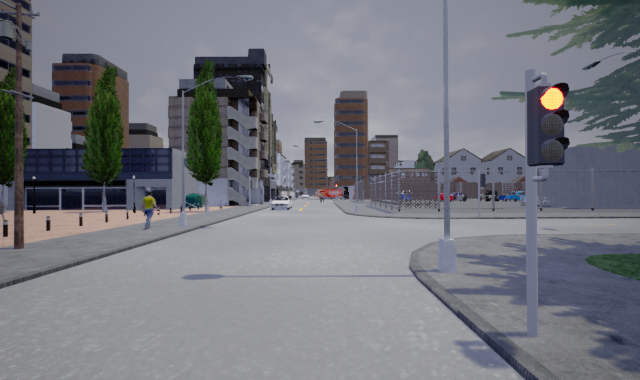pedestrian: (136, 188, 159, 229)
vehicle: (503, 189, 526, 203), (271, 195, 292, 210), (478, 189, 501, 202), (444, 192, 468, 201)
